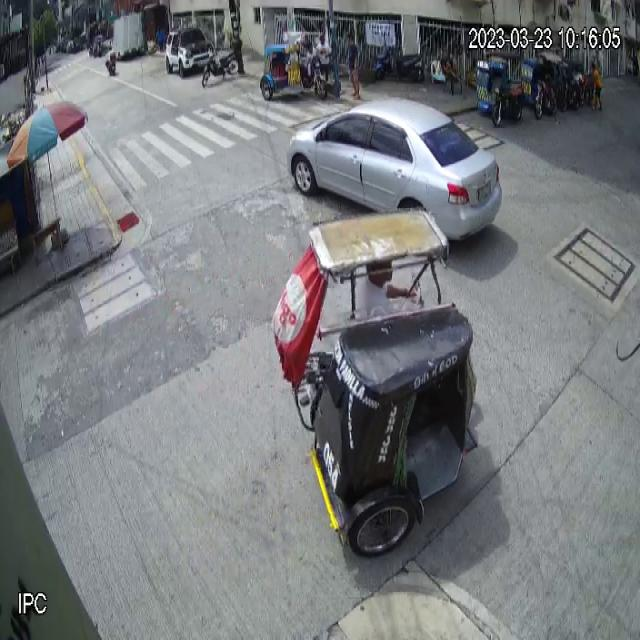Car: (285, 96, 502, 242)
Tricycle: (271, 206, 488, 558), (260, 28, 328, 102), (476, 51, 525, 128)
